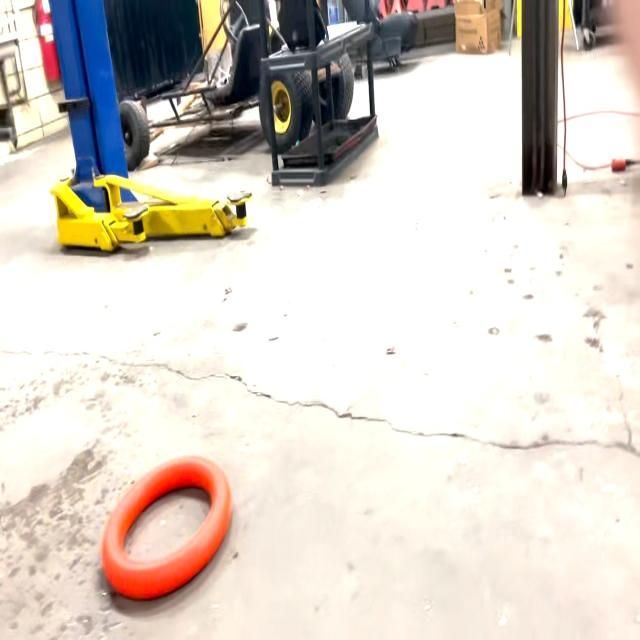note: (97, 456, 236, 594)
